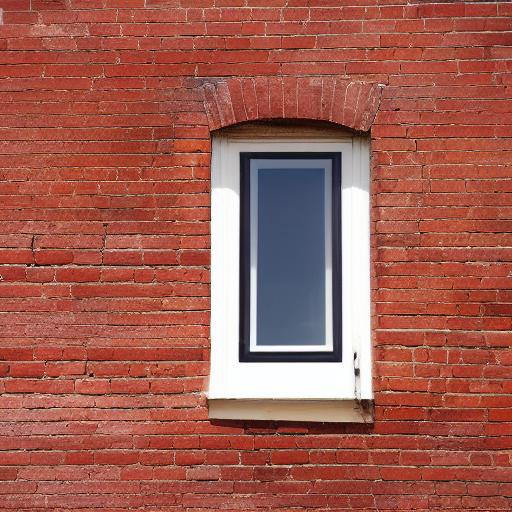Window: (202, 77, 380, 428)
